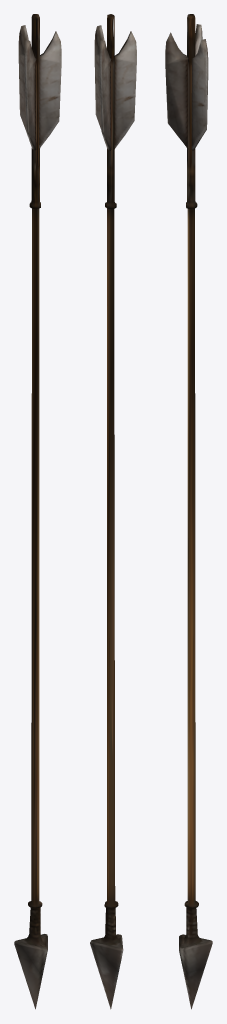
Rendered from SM_Arrow.fbx.
The picture shows the model from 3 angles, left to right: view 1: azimuth 90°, elevation 25°; view 2: azimuth 210°, elevation 25°; view 3: azimuth 270°, elevation 25°; orthographic projection.
Visible parts, largest first — view 1: SM_Arrow; view 2: SM_Arrow; view 3: SM_Arrow.
Part boxes in pixels (x1=…): SM_Arrow: x1=14, y1=14, x2=61, y2=1009; SM_Arrow: x1=90, y1=14, x2=136, y2=1009; SM_Arrow: x1=165, y1=14, x2=212, y2=1009.
Size of the model in its own units: 4.05 by 95.12 by 4.11.
